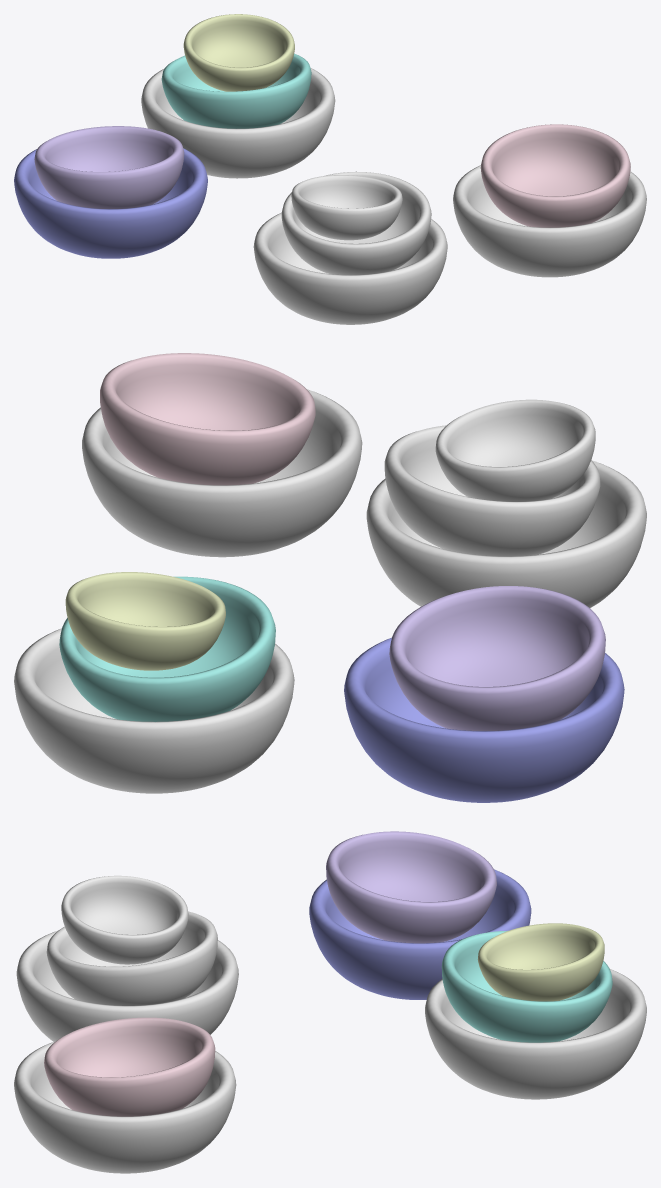
Rendered from sara.fbx.
3 renders of one model, top to bottom at view 1: azimuth 30°, elevation 25°; view 2: azimuth 150°, elevation 25°; view 3: azimuth 270°, elevation 25°, orthographic. The views are drawn at different scales.
Visible parts, largest first — view 1: Cylinder.016; view 2: Cylinder.016; view 3: Cylinder.016.
Boxes of the visible parts, x1,y1,x2,y2 form: Cylinder.016: [14, 14, 646, 324]; Cylinder.016: [14, 353, 646, 802]; Cylinder.016: [14, 831, 646, 1173].
Bounding box in the file's own units: 28.46 × 7.04 × 28.48.
